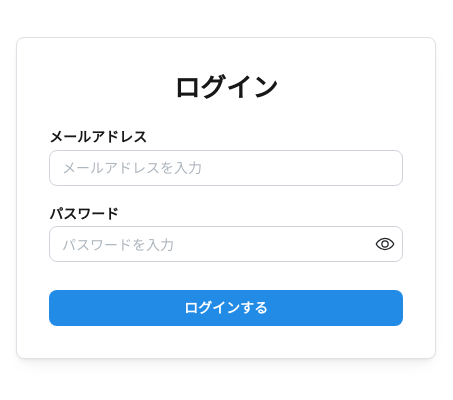
Test: ログイン画面 › 通信に失敗した場合にエラーを表示する
In the field labelled "メールアドレス": (226, 168) x1=49 y1=150 x2=403 y2=186, type "test@example.com"
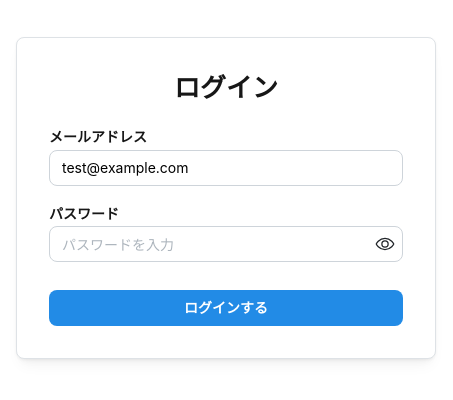
In the password field labelled "パスワード": (226, 244) x1=50 y1=227 x2=402 y2=261, type "test-password"
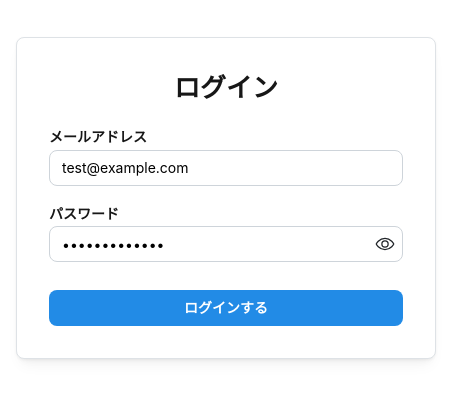
Click the button "ログインする": (226, 308) x1=49 y1=290 x2=403 y2=326
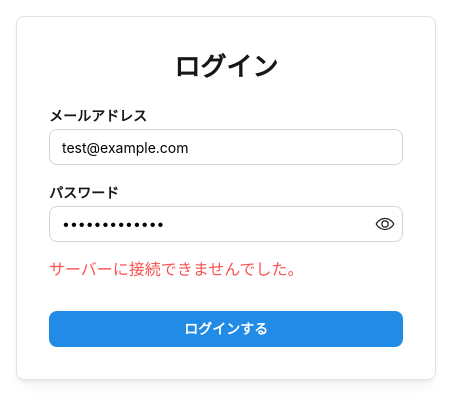
Expected: the message reads "サーバーに接続できませんでした。", x1=49 y1=261 x2=304 y2=278
